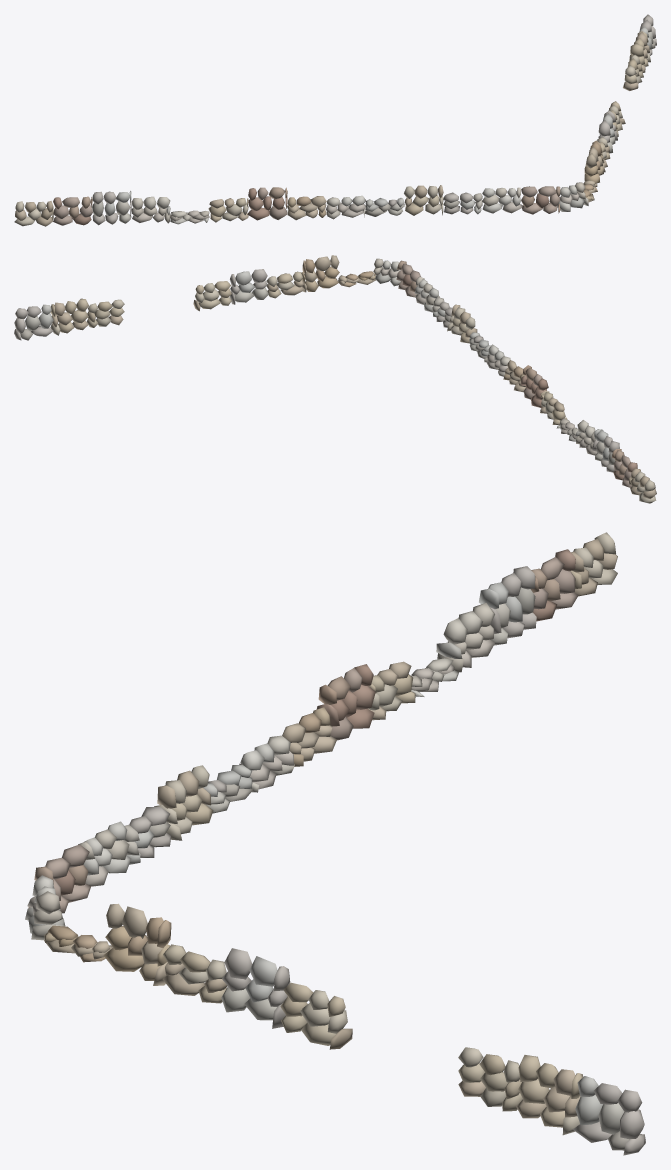
Rendered from farm_-30_-21_near.glb.
3 views of the same model, one above another, from view 1: azimuth 30°, elevation 25°; view 2: azimuth 150°, elevation 25°; view 3: azimuth 270°, elevation 25° (orthographic). The views are drawn at different scales.
Visible parts, largest first — view 1: geometry_0; view 2: geometry_0; view 3: geometry_0.
Boxes of the visible parts, x1,y1,x2,y2 form: geometry_0: [14, 14, 656, 226]; geometry_0: [14, 255, 656, 503]; geometry_0: [25, 532, 645, 1155].
Size of the model in its own units: 30.4 by 2.39 by 12.86.
